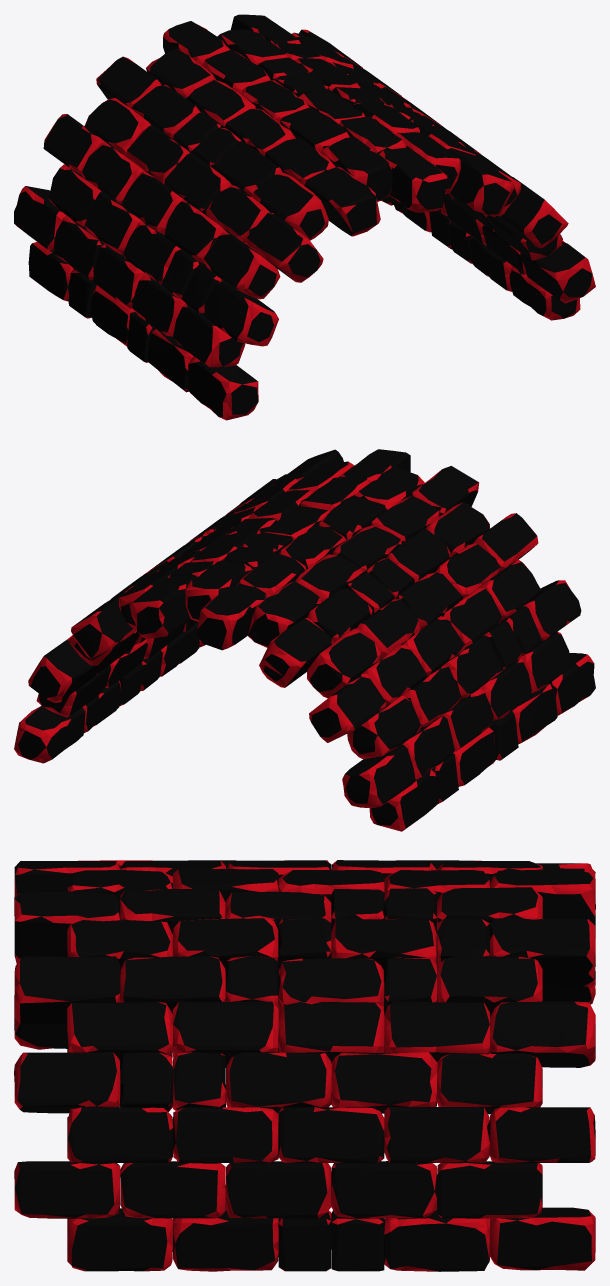
File: SM_ArchWall.fbx
The picture shows the model from 3 angles, top to bottom: view 1: azimuth 30°, elevation 25°; view 2: azimuth 150°, elevation 25°; view 3: azimuth 270°, elevation 25°; orthographic projection. The views are drawn at different scales.
Parts seen in each view (by area): view 1: SM_ArchWall; view 2: SM_ArchWall; view 3: SM_ArchWall.
Part boxes in pixels (left/top/right/bottom): SM_ArchWall: left=14, top=14, right=595, bottom=420; SM_ArchWall: left=14, top=449, right=595, bottom=831; SM_ArchWall: left=14, top=860, right=595, bottom=1271.
Bounding box in the file's own units: 439 × 441 × 222.
